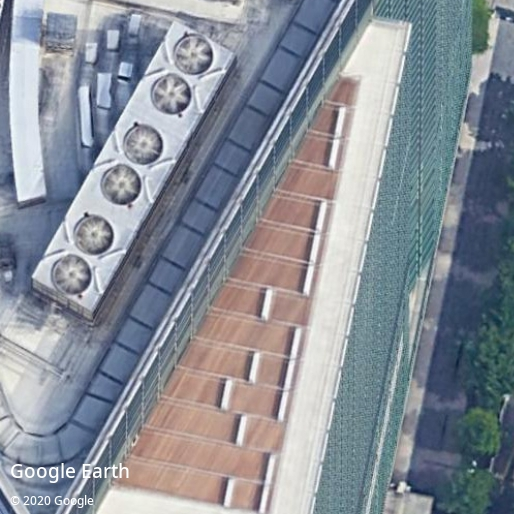Vent: (152, 75, 192, 115), (102, 165, 142, 205), (124, 125, 163, 165), (75, 216, 114, 255), (175, 36, 213, 75), (54, 255, 91, 295)
